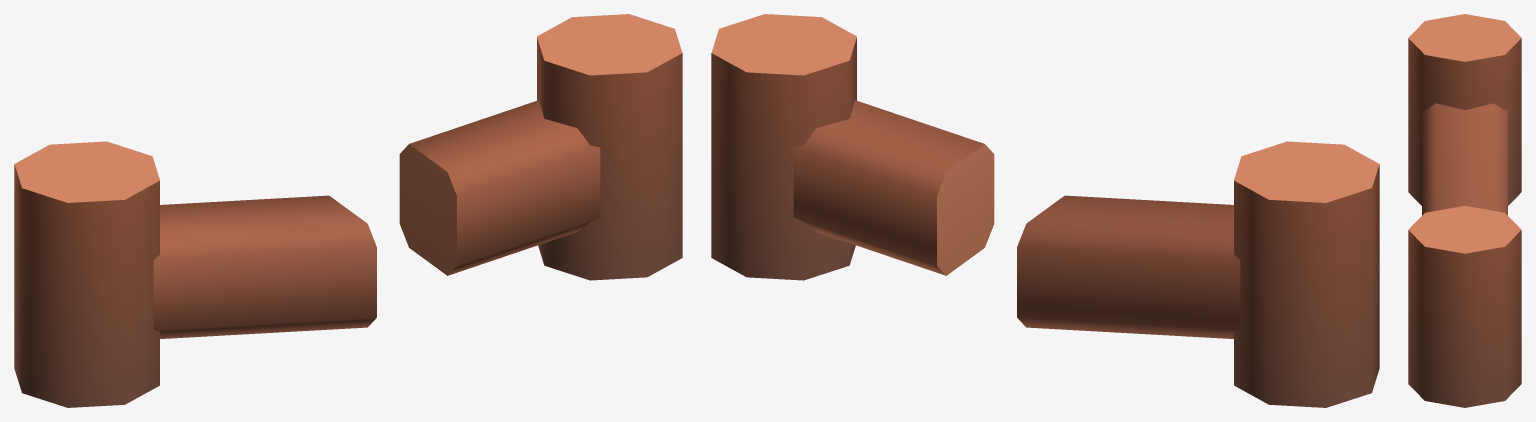
File: fence_low_broken.glb
The picture shows the model from 3 angles, left to right: view 1: azimuth 30°, elevation 25°; view 2: azimuth 150°, elevation 25°; view 3: azimuth 270°, elevation 25°; orthographic projection. The views are drawn at different scales.
Visible parts, largest first — view 1: fence-low-broken; view 2: fence-low-broken; view 3: fence-low-broken.
Boxes of the visible parts, left/top/right/bottom form: fence-low-broken: left=14, top=14, right=682, bottom=407; fence-low-broken: left=711, top=14, right=1379, bottom=407; fence-low-broken: left=1408, top=14, right=1521, bottom=407.
Size of the model in its own units: 1 by 0.3 by 0.2.
Materials: 1 (1 with a texture image).
